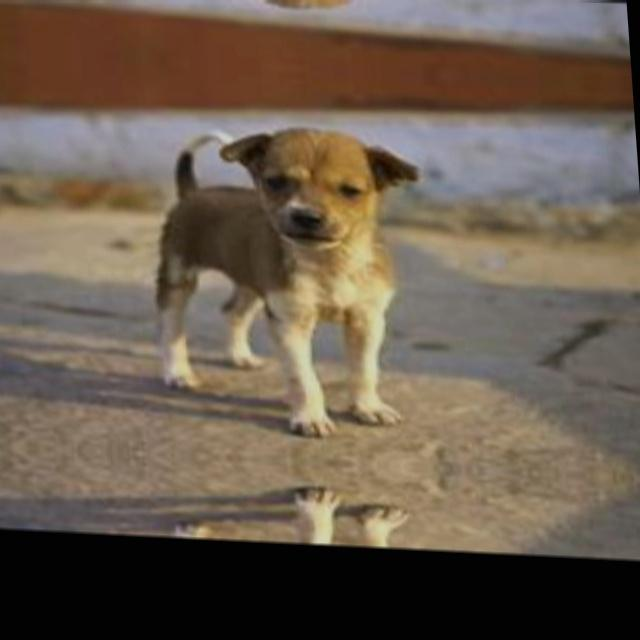dog: (65, 101, 467, 433), (92, 486, 476, 552), (56, 0, 439, 28)
